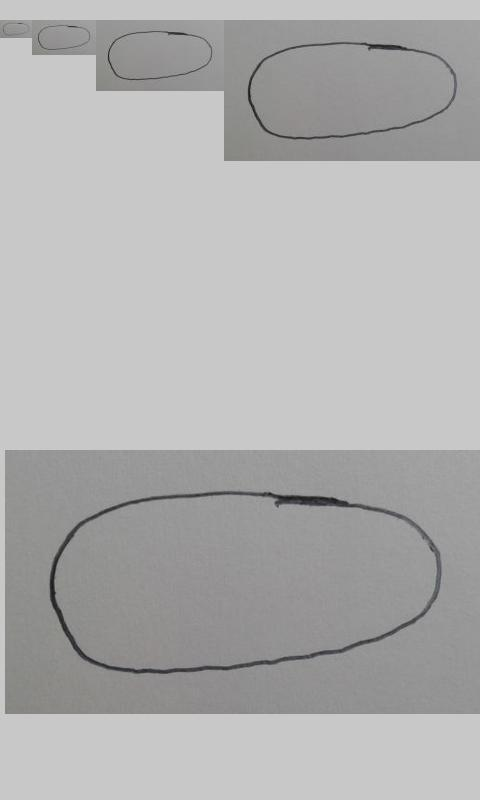chip: (48, 491, 444, 677), (247, 41, 458, 141), (107, 30, 213, 81), (37, 25, 91, 50), (2, 22, 30, 36)
